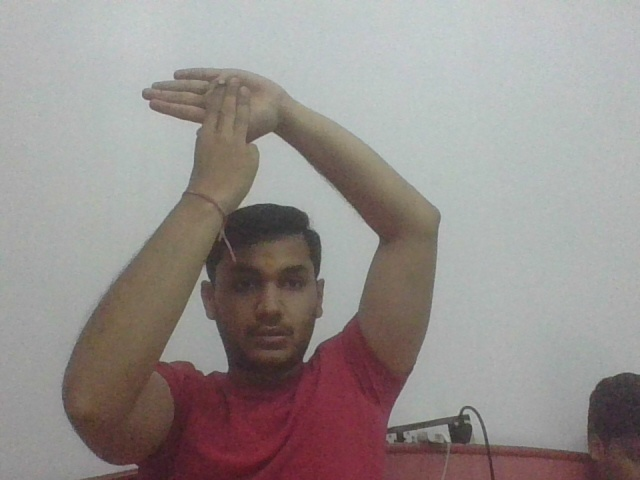M: (140, 66, 277, 189)
